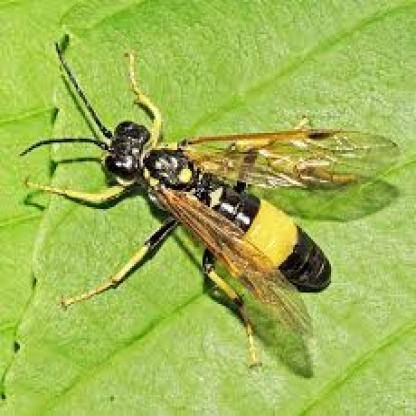sawfly: (32, 38, 398, 368)
